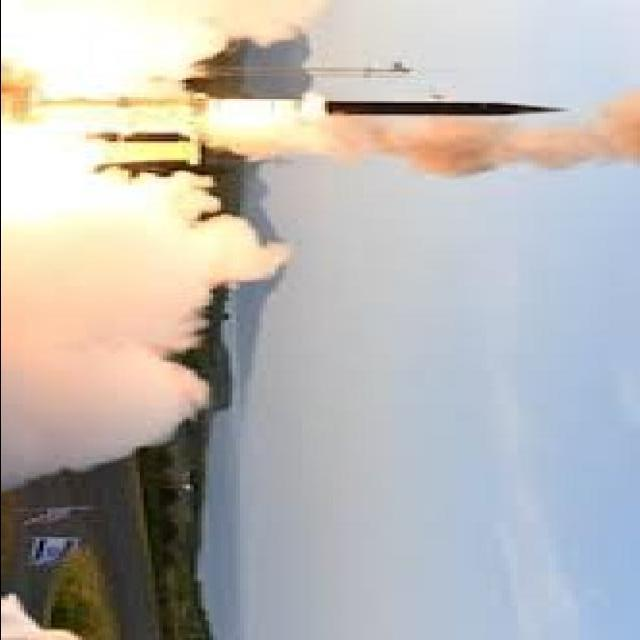Missile: (314, 96, 580, 121)
